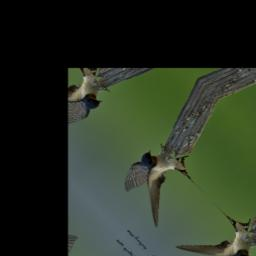Swallow: (111, 133, 215, 234)
